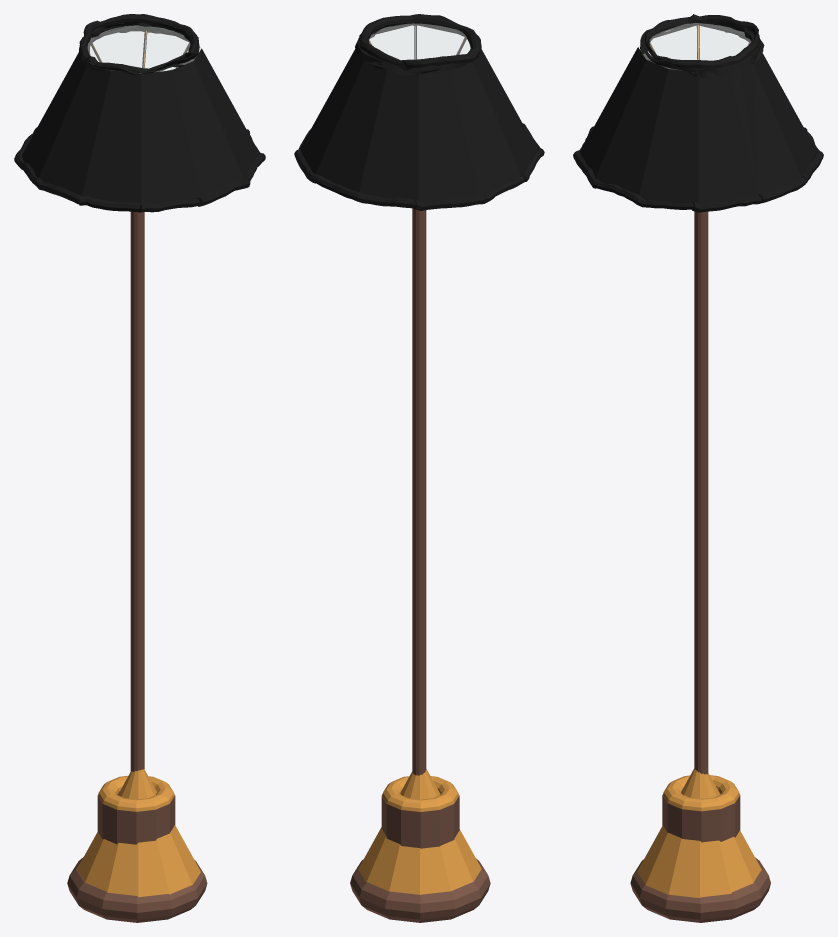
The model's file is floor_lamp.glb.
3 views of the same model, side by side, from view 1: azimuth 30°, elevation 25°; view 2: azimuth 150°, elevation 25°; view 3: azimuth 270°, elevation 25° (orthographic).
Visible parts, largest first — view 1: group663315449, group2146598150, group98939259, group295391733, group802999880, group2143784288, group2031585872, group439359913, group322761414, group158485985, group461903529; view 2: group663315449, group2146598150, group98939259, group295391733, group802999880, group2143784288, group759175053, group1783123766, group793641771, group2031585872, group322761414, group326329088; view 3: group663315449, group2146598150, group98939259, group295391733, group802999880, group2143784288, group2031585872, group322761414, group314949552, group793641771, group1783123766.
Boxes of the visible parts, bbox=[...] form: group663315449: bbox=[22, 25, 259, 203]; group2146598150: bbox=[130, 211, 144, 771]; group98939259: bbox=[77, 769, 200, 897]; group295391733: bbox=[67, 857, 207, 922]; group802999880: bbox=[97, 791, 175, 844]; group2143784288: bbox=[98, 776, 174, 811]; group2031585872: bbox=[79, 23, 199, 75]; group439359913: bbox=[79, 196, 140, 212]; group322761414: bbox=[158, 18, 198, 57]; group158485985: bbox=[138, 198, 199, 212]; group461903529: bbox=[196, 179, 250, 206]; group663315449: bbox=[300, 23, 536, 201]; group2146598150: bbox=[412, 208, 426, 775]; group98939259: bbox=[358, 769, 481, 894]; group295391733: bbox=[350, 858, 490, 922]; group802999880: bbox=[381, 795, 459, 848]; group2143784288: bbox=[382, 776, 458, 811]; group759175053: bbox=[414, 194, 484, 210]; group1783123766: bbox=[414, 15, 479, 51]; group793641771: bbox=[401, 48, 478, 67]; group2031585872: bbox=[377, 14, 481, 75]; group322761414: bbox=[359, 14, 420, 42]; group326329088: bbox=[356, 192, 419, 208]; group663315449: bbox=[580, 23, 816, 204]; group2146598150: bbox=[694, 211, 708, 774]; group98939259: bbox=[637, 768, 761, 898]; group295391733: bbox=[630, 857, 770, 922]; group802999880: bbox=[662, 791, 740, 842]; group2143784288: bbox=[663, 775, 739, 811]; group2031585872: bbox=[641, 17, 764, 77]; group322761414: bbox=[652, 51, 734, 68]; group314949552: bbox=[692, 196, 761, 212]; group793641771: bbox=[693, 14, 758, 36]; group1783123766: bbox=[645, 15, 694, 56].
Size of the model in its own units: 1.77 by 6.85 by 1.8.
